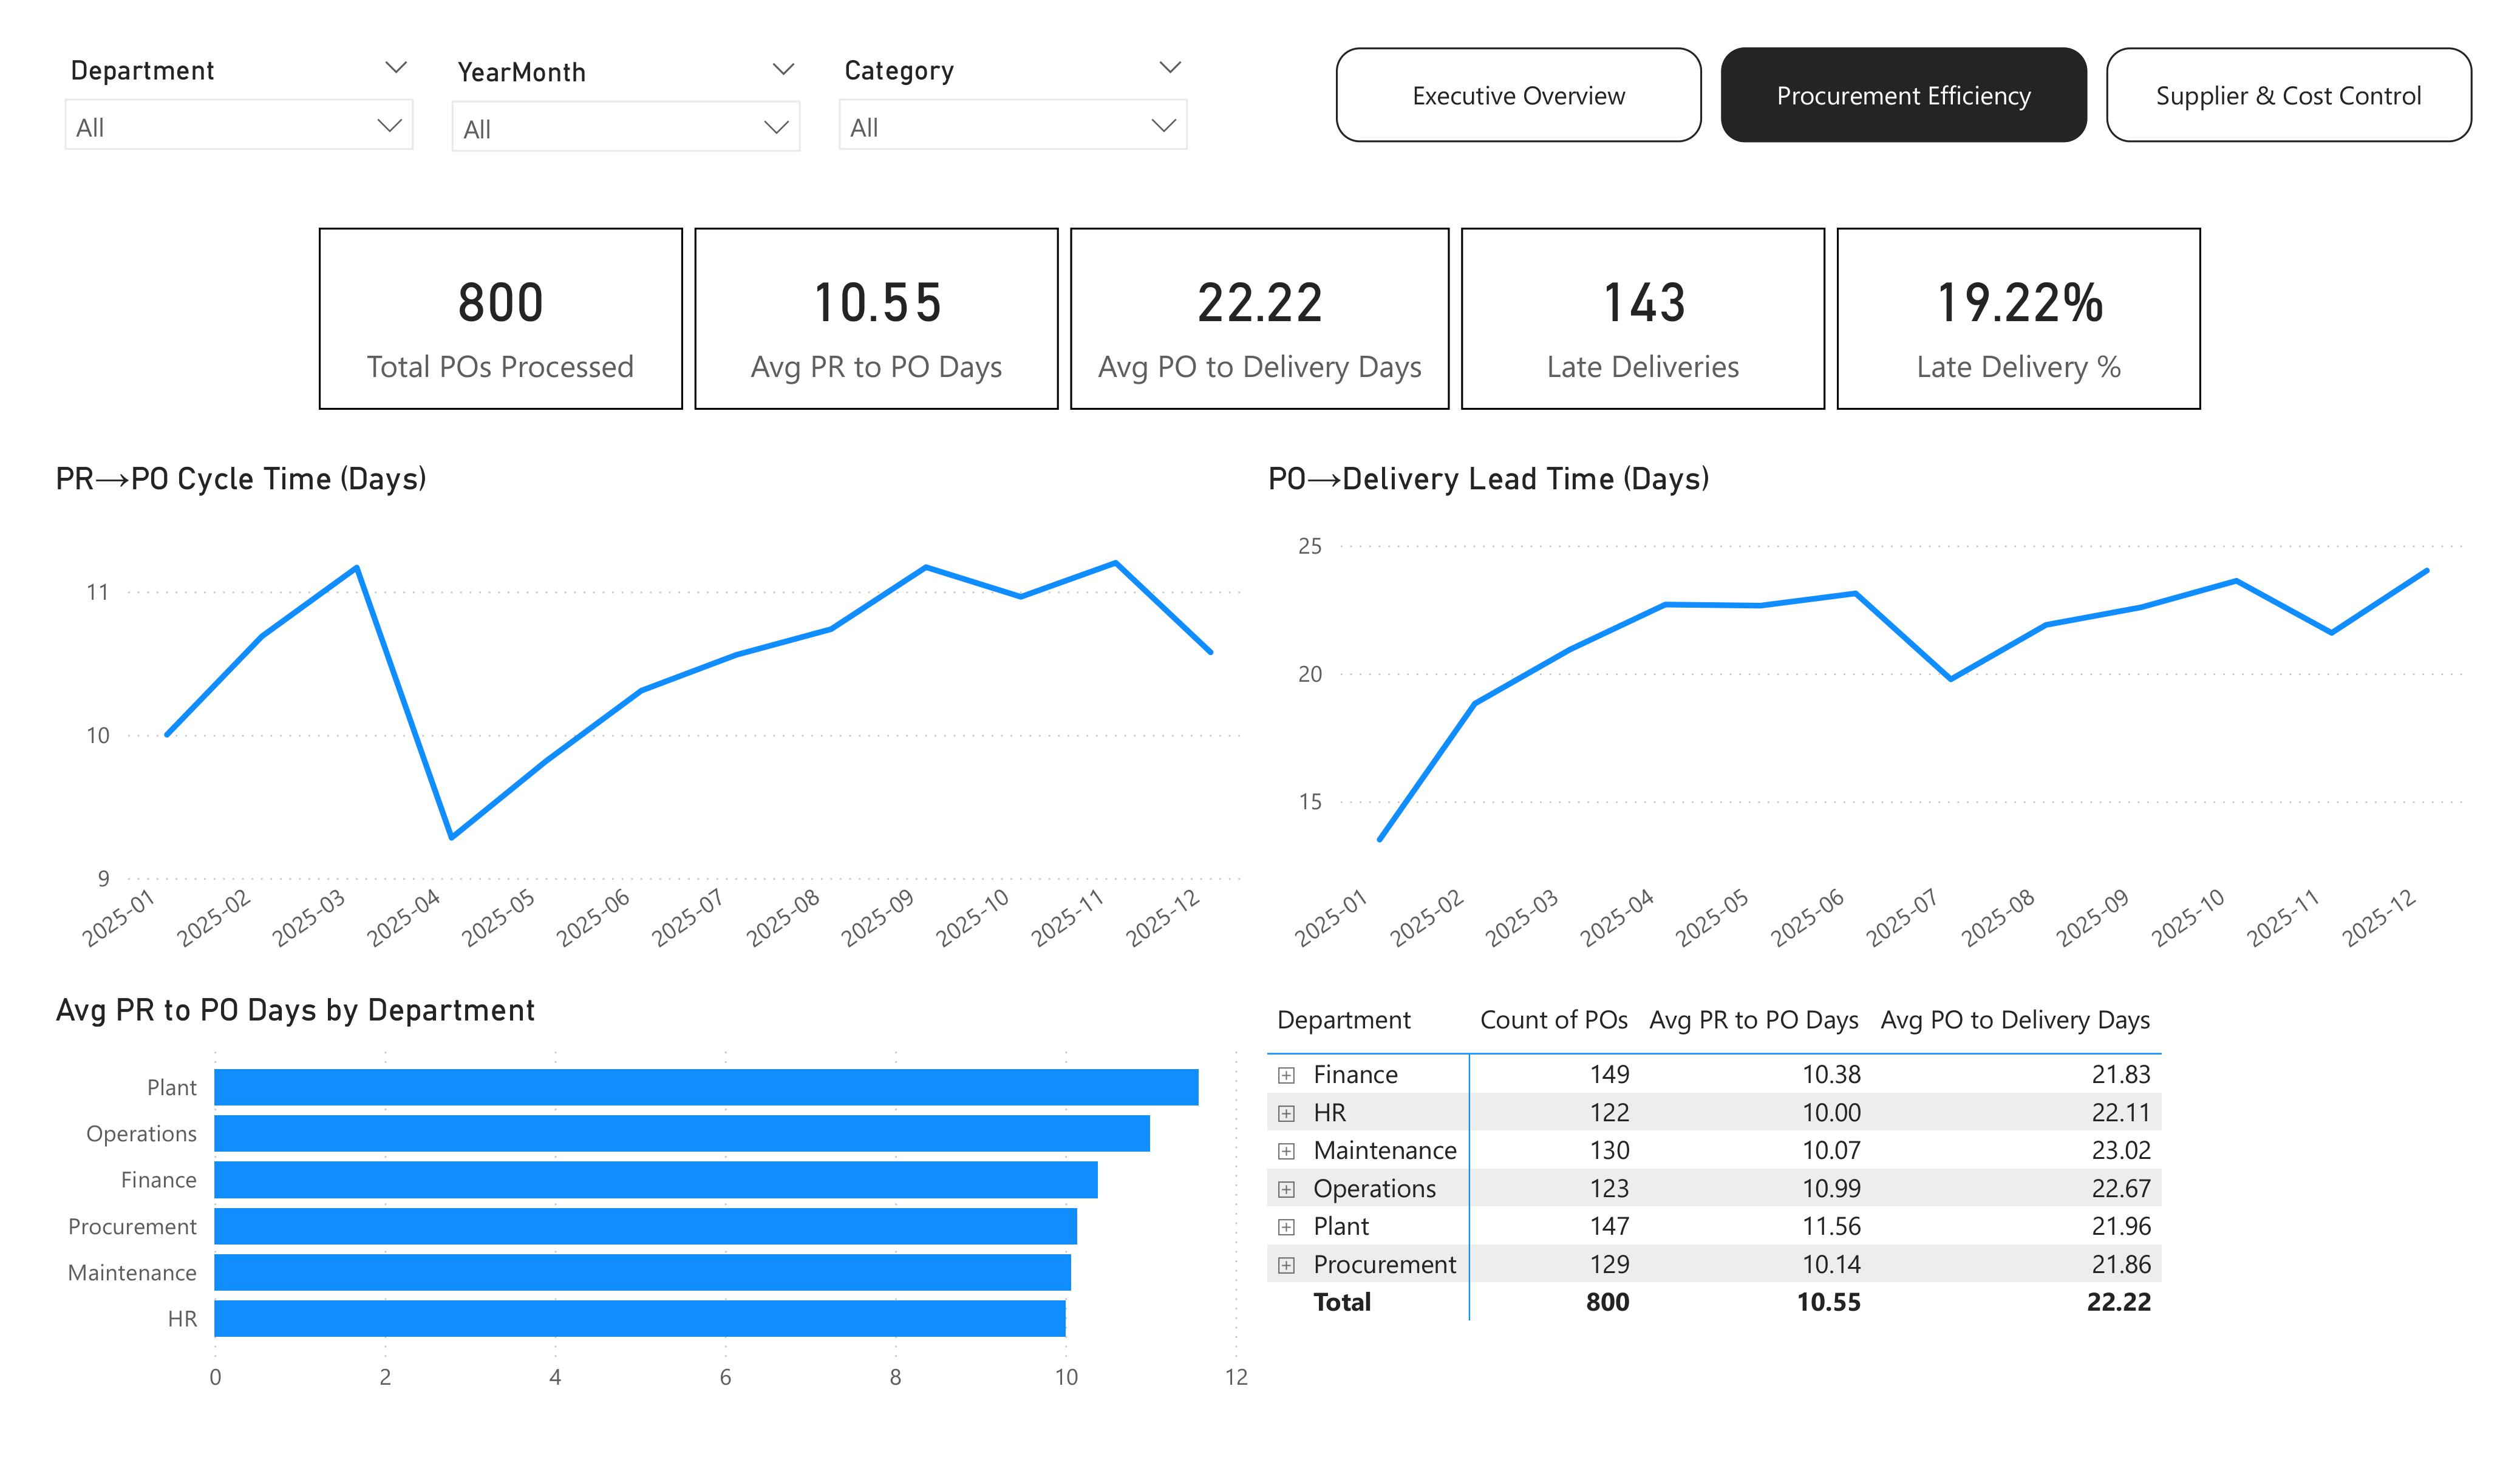

The page's visual inventory and layout, read from the dashboard file:
{"tool":"powerbi","page":{"name":"Procurement Efficiency","canvas":[1280,720],"ordinal":1},"visuals":[{"type":"card","fields":{"Values":["CountNonNull(purchase_orders.PO_ID)"]},"box":[304,80,160,98.3],"z":0,"group":"g1"},{"type":"lineChart","fields":{"Category":["DimMonth.YearMonth"],"Y":["_Measures.Avg PR to PO Days (By Month)"]},"box":[0,250,639.4,247.5],"z":0},{"type":"card","fields":{"Values":["_Measures.Avg PR to PO Days"]},"box":[464.5,80,160.5,98.3],"z":1000,"group":"g1"},{"type":"lineChart","fields":{"Category":["DimMonth.YearMonth"],"Y":["_Measures.Avg PO to Delivery Days (By Delivery Month)"]},"box":[639.4,250,640.6,247.5],"z":1000},{"type":"card","fields":{"Values":["_Measures.Avg PO to Delivery Days"]},"box":[624.9,80,195.3,98.3],"z":2000,"group":"g1"},{"type":"barChart","fields":{"Category":["DimDepartment.Department"],"Y":["_Measures.Avg PR to PO Days"]},"box":[0,497.6,639.4,222.7],"z":2000},{"type":"card","fields":{"Values":["_Measures.Late Deliveries"]},"box":[820.2,80,160.5,98.3],"z":3000,"group":"g1"},{"type":"pivotTable","fields":{"Rows":["DimDepartment.Department","purchase_requisitions.Category"],"Values":["CountNonNull(purchase_orders.PO_ID)","_Measures.Avg PR to PO Days","_Measures.Avg PO to Delivery Days"]},"box":[639.4,497.6,640.6,222.7],"z":3000},{"type":"slicer","fields":{"Values":["DimDepartment.Department"]},"box":[0,0,204,75.9],"z":4000},{"type":"slicer","fields":{"Values":["DimMonth.YearMonth"]},"box":[204,1.2,204,75.9],"z":5000},{"type":"slicer","fields":{"Values":["purchase_requisitions.Category"]},"box":[408,0,204,75.9],"z":6000},{"type":"group","id":"g1","title":"Group 1","box":[304,80,672,96],"z":7000}]}

Visuals, with their boxes on the page's 1280x720 design canvas (x1, y1, x2, y2). These are canvas units, not pixel positions in the 2520x1457 screenshot, which may show the page scaled, cropped or inside an application window:
card - CountNonNull(purchase_orders.PO_ID): (x1=304, y1=80, x2=464, y2=178)
lineChart - DimMonth.YearMonth x _Measures.Avg PR to PO Days (By Month): (x1=0, y1=250, x2=639, y2=498)
card - _Measures.Avg PR to PO Days: (x1=464, y1=80, x2=625, y2=178)
lineChart - DimMonth.YearMonth x _Measures.Avg PO to Delivery Days (By Delivery Month): (x1=639, y1=250, x2=1280, y2=498)
card - _Measures.Avg PO to Delivery Days: (x1=625, y1=80, x2=820, y2=178)
barChart - DimDepartment.Department x _Measures.Avg PR to PO Days: (x1=0, y1=498, x2=639, y2=720)
card - _Measures.Late Deliveries: (x1=820, y1=80, x2=981, y2=178)
pivotTable - DimDepartment.Department x purchase_requisitions.Category: (x1=639, y1=498, x2=1280, y2=720)
slicer - DimDepartment.Department: (x1=0, y1=0, x2=204, y2=76)
slicer - DimMonth.YearMonth: (x1=204, y1=1, x2=408, y2=77)
slicer - purchase_requisitions.Category: (x1=408, y1=0, x2=612, y2=76)
"Group 1" group: (x1=304, y1=80, x2=976, y2=176)
